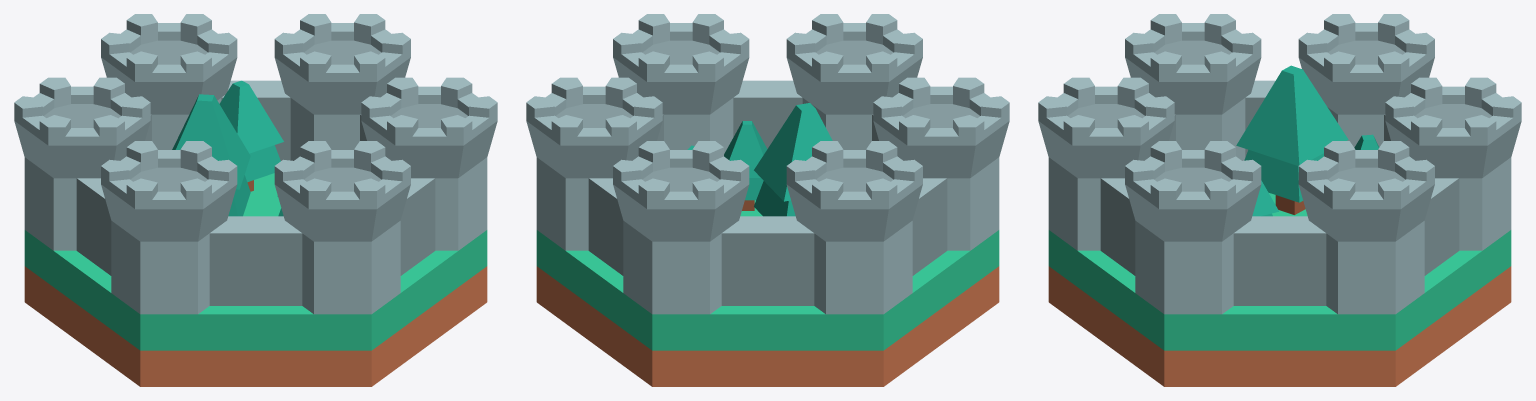
Rendered from Building Castle.glb.
3 views of the same model, side by side, from view 1: azimuth 30°, elevation 25°; view 2: azimuth 150°, elevation 25°; view 3: azimuth 270°, elevation 25° (orthographic).
Parts seen in each view (by area): view 1: building_castle, tower, tower.005, wall, tower.002, tower.003, tower.001, tower.004, tree, tree.002; view 2: building_castle, tower.003, tower.004, wall, tower.001, tower.005, tower.002, tower, tree, tree.001; view 3: building_castle, tower.001, tower.002, wall, tower, tower.004, tower.005, tower.003, tree, tree.001.
Part boxes in pixels (left/top/right/bottom): building_castle: left=24, top=173, right=487, bottom=386; tower: left=274, top=141, right=410, bottom=314; tower.005: left=101, top=141, right=237, bottom=314; wall: left=76, top=80, right=435, bottom=305; tower.002: left=361, top=77, right=497, bottom=250; tower.003: left=14, top=77, right=150, bottom=250; tower.001: left=274, top=14, right=410, bottom=160; tower.004: left=101, top=14, right=237, bottom=149; tree: left=172, top=94, right=250, bottom=216; tree.002: left=219, top=80, right=283, bottom=191; building_castle: left=536, top=200, right=999, bottom=386; tower.003: left=786, top=141, right=922, bottom=314; tower.004: left=613, top=141, right=749, bottom=314; wall: left=588, top=80, right=947, bottom=305; tower.001: left=526, top=77, right=662, bottom=250; tower.005: left=873, top=77, right=1009, bottom=250; tower.002: left=613, top=14, right=749, bottom=153; tower: left=786, top=14, right=922, bottom=149; tree: left=754, top=103, right=832, bottom=216; tree.001: left=724, top=121, right=767, bottom=210; building_castle: left=1048, top=193, right=1511, bottom=386; tower.001: left=1298, top=141, right=1434, bottom=314; tower.002: left=1125, top=141, right=1261, bottom=314; wall: left=1100, top=80, right=1459, bottom=305; tower: left=1038, top=77, right=1174, bottom=250; tower.004: left=1385, top=77, right=1521, bottom=250; tower.005: left=1125, top=14, right=1261, bottom=160; tower.003: left=1298, top=14, right=1434, bottom=147; tree: left=1236, top=65, right=1348, bottom=214; tree.001: left=1252, top=180, right=1278, bottom=216.
Bounding box in the file's own units: 1.04 × 0.58 × 1.21.
